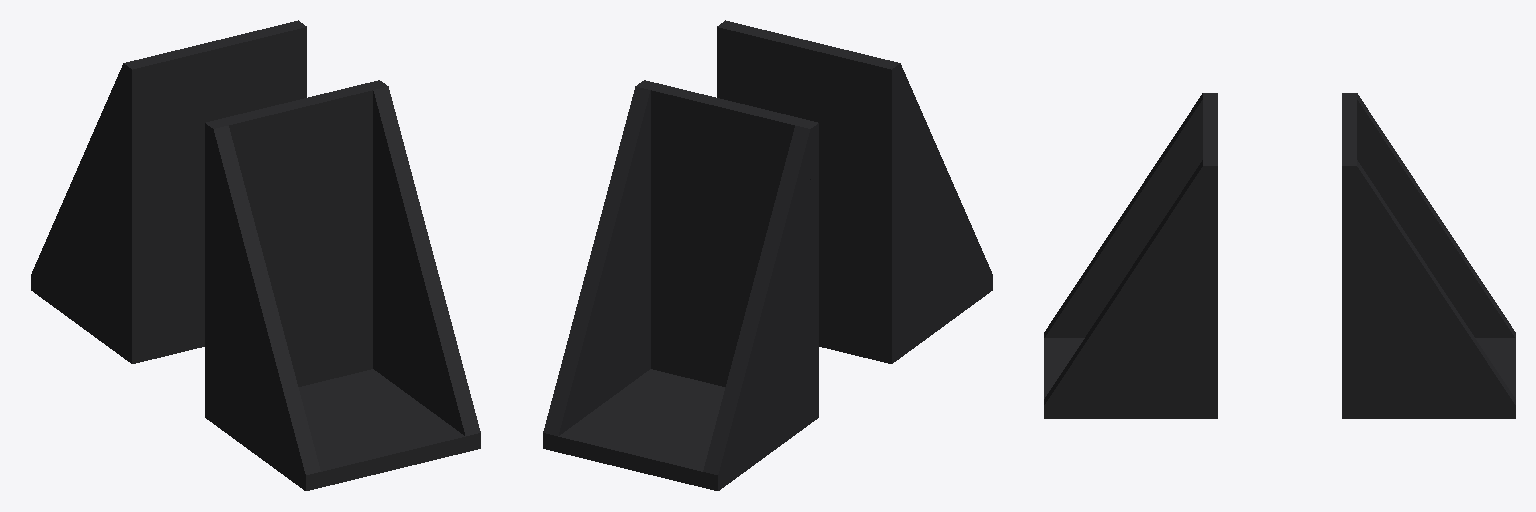
URDF robot description (turtlebot_arm):
<?xml version="1.0" ?>
<!-- =================================================================================== -->
<!-- |    This document was autogenerated by xacro from pincher_arm.urdf.xacro         | -->
<!-- |    EDITING THIS FILE BY HAND IS NOT RECOMMENDED                                 | -->
<!-- =================================================================================== -->
<robot name="turtlebot_arm" xmlns:xacro="http://ros.org/wiki/xacro">
  <!-- Included URDF Files -->
  <material name="White">
    <color rgba="0.87 0.90 0.87 1.0"/>
  </material>
  <material name="Black">
    <color rgba="0.08 0.08 0.08 1.0"/>
  </material>
  <material name="Gray">
    <color rgba="0.2 0.2 0.21 1.0"/>
  </material>
  <material name="Green">
    <color rgba="0.22 0.32 0.14 1.0"/>
  </material>
  <!-- As we don't have here a turtlebot, add a base_link link as its location reference -->
  <link name="base_link"/>
  <!-- Turtlebot arm macro: we can configure joints velocity limit and lower/upper limits
         for the first joint (arm_shoulder_pan) to allow accessing to different operational 
         areas, e.g. left handed vs. right handed robot -->
  <link name="arm_base_link"/>
  <joint name="arm_base_joint" type="fixed">
    <origin xyz="0.1 0.03 0.435"/>
    <parent link="base_link"/>
    <child link="arm_base_link"/>
  </joint>
  <link name="gripper_link"/>
  <joint name="gripper_link_joint" type="revolute">
    <origin rpy="0 -1.57 0" xyz="0 0 0.112"/>
    <parent link="arm_wrist_flex_link"/>
    <child link="gripper_link"/>
    <limit effort="30" lower="-3.14" upper="3.14" velocity="1"/>
    <axis xyz="1 0 0"/>
  </joint>
  <joint name="arm_shoulder_pan_servo_joint" type="fixed">
    <origin rpy="1.570795 0 1.570795" xyz="0 0 0"/>
    <parent link="arm_base_link"/>
    <child link="arm_shoulder_pan_servo_link"/>
  </joint>
  <link name="arm_shoulder_pan_servo_link">
    <inertial>
      <mass value="0.055"/>
      <origin xyz="0 0 0"/>
      <inertia ixx="0.000017012" ixy="0.0" ixz="0.0" iyy="0.000013258" iyz="0.0" izz="0.000009483"/>
    </inertial>
    <visual>
      <origin rpy="0 0 0" xyz=" 0 0 0 "/>
      <geometry>
        <mesh filename="package://turtlebot_arm_description/meshes/ax12_box.stl" scale="0.001 0.001 0.001"/>
      </geometry>
      <material name="Gray"/>
    </visual>
    <collision>
      <origin rpy="0 0 0" xyz="0.0 0.0 -0.01241"/>
      <geometry>
        <box size="0.025 0.038 0.04762"/>
      </geometry>
    </collision>
  </link>
  <gazebo reference="arm_shoulder_pan_servo_link">
    <material>Gazebo/Black</material>
    <selfCollide>true</selfCollide>
    <gravity>true</gravity>
  </gazebo>
  <joint name="arm_shoulder_pan_joint" type="revolute">
    <origin rpy="-1.570795 1.570795 3.14159" xyz="0 0.019 0"/>
    <axis xyz="0 0 -1"/>
    <limit effort="30" lower="-2.62" upper="2.62" velocity="1.571"/>
    <dynamics friction="0.13"/>
    <parent link="arm_shoulder_pan_servo_link"/>
    <child link="arm_shoulder_pan_link"/>
  </joint>
  <link name="arm_shoulder_pan_link">
    <inertial>
      <mass value="0.008"/>
      <origin xyz="0 0 0"/>
      <inertia ixx="0.000001" ixy="0.0" ixz="0.0" iyy="0.000001" iyz="0.0" izz="0.000001"/>
    </inertial>
    <visual>
      <origin rpy="0 0 0" xyz=" 0 0 0 "/>
      <geometry>
        <mesh filename="package://turtlebot_arm_description/meshes/F3.stl" scale="0.001 0.001 0.001"/>
      </geometry>
      <material name="Gray"/>
    </visual>
    <collision>
      <origin rpy="0 0 0" xyz="0.0 0.0 -0.0045"/>
      <geometry>
        <box size="0.025 0.038 0.009"/>
      </geometry>
    </collision>
  </link>
  <gazebo reference="arm_shoulder_pan_link">
    <material>Gazebo/Gray</material>
    <selfCollide>true</selfCollide>
    <gravity>true</gravity>
  </gazebo>
  <joint name="arm_shoulder_lift_servo_joint" type="fixed">
    <origin rpy="0 3.14159 0" xyz="0 0 -0.0415"/>
    <parent link="arm_shoulder_pan_link"/>
    <child link="arm_shoulder_lift_servo_link"/>
  </joint>
  <link name="arm_shoulder_lift_servo_link">
    <inertial>
      <mass value="0.055"/>
      <origin xyz="0 0 0"/>
      <inertia ixx="0.000017012" ixy="0.0" ixz="0.0" iyy="0.000013258" iyz="0.0" izz="0.000009483"/>
    </inertial>
    <visual>
      <origin rpy="0 0 0" xyz=" 0 0 0 "/>
      <geometry>
        <mesh filename="package://turtlebot_arm_description/meshes/ax12_box.stl" scale="0.001 0.001 0.001"/>
      </geometry>
      <material name="Gray"/>
    </visual>
    <collision>
      <origin rpy="0 0 0" xyz="0.0 0.0 -0.01241"/>
      <geometry>
        <box size="0.025 0.038 0.04762"/>
      </geometry>
    </collision>
  </link>
  <gazebo reference="arm_shoulder_lift_servo_link">
    <material>Gazebo/Black</material>
    <selfCollide>true</selfCollide>
    <gravity>true</gravity>
  </gazebo>
  <joint name="arm_shoulder_lift_joint" type="revolute">
    <origin rpy="0 0 0" xyz="0 0 0"/>
    <axis xyz="0 1 0"/>
    <limit effort="30" lower="-2.21" upper="2.16" velocity="1.571"/>
    <dynamics friction="0.13"/>
    <parent link="arm_shoulder_lift_servo_link"/>
    <child link="arm_shoulder_lift_link"/>
  </joint>
  <link name="arm_shoulder_lift_link">
    <inertial>
      <mass value="0.016"/>
      <origin xyz="0 0 0"/>
      <inertia ixx="0.000001" ixy="0.0" ixz="0.0" iyy="0.000001" iyz="0.0" izz="0.000001"/>
    </inertial>
    <visual>
      <origin rpy="0 0 0" xyz=" 0 0 0 "/>
      <geometry>
        <mesh filename="package://turtlebot_arm_description/meshes/F4.stl" scale="0.001 0.001 0.001"/>
      </geometry>
      <material name="Gray"/>
    </visual>
    <collision>
      <origin rpy="0 0 0" xyz="0.0 0.0 0.0215"/>
      <geometry>
        <box size="0.028 0.0485 0.065"/>
      </geometry>
    </collision>
  </link>
  <gazebo reference="arm_shoulder_lift_link">
    <material>Gazebo/Gray</material>
    <selfCollide>true</selfCollide>
    <gravity>true</gravity>
  </gazebo>
  <joint name="arm_shoulder_F10_0_joint" type="fixed">
    <origin rpy="0 0 0" xyz="0 0 0.0545"/>
    <parent link="arm_shoulder_lift_link"/>
    <child link="arm_shoulder_F10_0_link"/>
  </joint>
  <link name="arm_shoulder_F10_0_link">
    <inertial>
      <mass value="0.004"/>
      <origin xyz="0 0 0"/>
      <inertia ixx="0.000001" ixy="0.0" ixz="0.0" iyy="0.000001" iyz="0.0" izz="0.000001"/>
    </inertial>
    <visual>
      <origin rpy="0 0 0" xyz=" 0 0 0 "/>
      <geometry>
        <mesh filename="package://turtlebot_arm_description/meshes/F10.stl" scale="0.001 0.001 0.001"/>
      </geometry>
      <material name="Gray"/>
    </visual>
    <collision>
      <origin rpy="0 0 0" xyz="0.0 0.0 0.0"/>
      <geometry>
        <box size="0.025 0.038 0.004"/>
      </geometry>
    </collision>
  </link>
  <gazebo reference="arm_shoulder_F10_0_link">
    <material>Gazebo/Gray</material>
    <selfCollide>true</selfCollide>
    <gravity>true</gravity>
  </gazebo>
  <joint name="arm_shoulder_F10_1_joint" type="fixed">
    <origin rpy="0 0 0" xyz="0 0 0.004"/>
    <parent link="arm_shoulder_F10_0_link"/>
    <child link="arm_shoulder_F10_1_link"/>
  </joint>
  <link name="arm_shoulder_F10_1_link">
    <inertial>
      <mass value="0.004"/>
      <origin xyz="0 0 0"/>
      <inertia ixx="0.000001" ixy="0.0" ixz="0.0" iyy="0.000001" iyz="0.0" izz="0.000001"/>
    </inertial>
    <visual>
      <origin rpy="0 0 0" xyz=" 0 0 0 "/>
      <geometry>
        <mesh filename="package://turtlebot_arm_description/meshes/F10.stl" scale="0.001 0.001 0.001"/>
      </geometry>
      <material name="Gray"/>
    </visual>
    <collision>
      <origin rpy="0 0 0" xyz="0.0 0.0 0.0"/>
      <geometry>
        <box size="0.025 0.038 0.004"/>
      </geometry>
    </collision>
  </link>
  <gazebo reference="arm_shoulder_F10_1_link">
    <material>Gazebo/Gray</material>
    <selfCollide>true</selfCollide>
    <gravity>true</gravity>
  </gazebo>
  <joint name="arm_shoulder_F10_2_joint" type="fixed">
    <origin rpy="0 0 0" xyz="0 0 0.004"/>
    <parent link="arm_shoulder_F10_1_link"/>
    <child link="arm_shoulder_F10_2_link"/>
  </joint>
  <link name="arm_shoulder_F10_2_link">
    <inertial>
      <mass value="0.004"/>
      <origin xyz="0 0 0"/>
      <inertia ixx="0.000001" ixy="0.0" ixz="0.0" iyy="0.000001" iyz="0.0" izz="0.000001"/>
    </inertial>
    <visual>
      <origin rpy="0 0 0" xyz=" 0 0 0 "/>
      <geometry>
        <mesh filename="package://turtlebot_arm_description/meshes/F10.stl" scale="0.001 0.001 0.001"/>
      </geometry>
      <material name="Gray"/>
    </visual>
    <collision>
      <origin rpy="0 0 0" xyz="0.0 0.0 0.0"/>
      <geometry>
        <box size="0.025 0.038 0.004"/>
      </geometry>
    </collision>
  </link>
  <gazebo reference="arm_shoulder_F10_2_link">
    <material>Gazebo/Gray</material>
    <selfCollide>true</selfCollide>
    <gravity>true</gravity>
  </gazebo>
  <joint name="arm_shoulder_F3_0_joint" type="fixed">
    <origin rpy="0 3.14159 0" xyz="0 0 0.002"/>
    <parent link="arm_shoulder_F10_2_link"/>
    <child link="arm_shoulder_F3_0_link"/>
  </joint>
  <link name="arm_shoulder_F3_0_link">
    <inertial>
      <mass value="0.005"/>
      <origin xyz="0 0 0"/>
      <inertia ixx="0.000001" ixy="0.0" ixz="0.0" iyy="0.000001" iyz="0.0" izz="0.000001"/>
    </inertial>
    <visual>
      <origin rpy="0 0 0" xyz=" 0 0 0 "/>
      <geometry>
        <mesh filename="package://turtlebot_arm_description/meshes/F3.stl" scale="0.001 0.001 0.001"/>
      </geometry>
      <material name="Gray"/>
    </visual>
    <collision>
      <origin rpy="0 0 0" xyz="0.0 0.0 -0.0045"/>
      <geometry>
        <box size="0.025 0.038 0.009"/>
      </geometry>
    </collision>
  </link>
  <gazebo reference="arm_shoulder_F3_0_link">
    <material>Gazebo/Gray</material>
    <selfCollide>true</selfCollide>
    <gravity>true</gravity>
  </gazebo>
  <joint name="arm_elbow_flex_servo_joint" type="fixed">
    <origin rpy="0 3.14159 0" xyz="0 0 -0.0415"/>
    <parent link="arm_shoulder_F3_0_link"/>
    <child link="arm_elbow_flex_servo_link"/>
  </joint>
  <link name="arm_elbow_flex_servo_link">
    <inertial>
      <mass value="0.055"/>
      <origin xyz="0 0 0"/>
      <inertia ixx="0.000017012" ixy="0.0" ixz="0.0" iyy="0.000013258" iyz="0.0" izz="0.000009483"/>
    </inertial>
    <visual>
      <origin rpy="0 0 0" xyz=" 0 0 0 "/>
      <geometry>
        <mesh filename="package://turtlebot_arm_description/meshes/ax12_box.stl" scale="0.001 0.001 0.001"/>
      </geometry>
      <material name="Gray"/>
    </visual>
    <collision>
      <origin rpy="0 0 0" xyz="0.0 0.0 -0.01241"/>
      <geometry>
        <box size="0.025 0.038 0.04762"/>
      </geometry>
    </collision>
  </link>
  <gazebo reference="arm_elbow_flex_servo_link">
    <material>Gazebo/Black</material>
    <selfCollide>true</selfCollide>
    <gravity>true</gravity>
  </gazebo>
  <joint name="arm_elbow_flex_joint" type="revolute">
    <origin rpy="0 0 0" xyz="0 0 0"/>
    <axis xyz="0 1 0"/>
    <limit effort="30" lower="-2.42" upper="2.38" velocity="1.571"/>
    <dynamics friction="0.13"/>
    <parent link="arm_elbow_flex_servo_link"/>
    <child link="arm_elbow_flex_link"/>
  </joint>
  <link name="arm_elbow_flex_link">
    <inertial>
      <mass value="0.016"/>
      <origin xyz="0 0 0"/>
      <inertia ixx="0.000001" ixy="0.0" ixz="0.0" iyy="0.000001" iyz="0.0" izz="0.000001"/>
    </inertial>
    <visual>
      <origin rpy="0 0 0" xyz=" 0 0 0 "/>
      <geometry>
        <mesh filename="package://turtlebot_arm_description/meshes/F4.stl" scale="0.001 0.001 0.001"/>
      </geometry>
      <material name="Gray"/>
    </visual>
    <collision>
      <origin rpy="0 0 0" xyz="0.0 0.0 0.0215"/>
      <geometry>
        <box size="0.028 0.0485 0.065"/>
      </geometry>
    </collision>
  </link>
  <gazebo reference="arm_elbow_flex_link">
    <material>Gazebo/Gray</material>
    <selfCollide>true</selfCollide>
    <gravity>true</gravity>
  </gazebo>
  <joint name="arm_elbow_F10_0_joint" type="fixed">
    <origin rpy="0 0 0" xyz="0 0 0.0545"/>
    <parent link="arm_elbow_flex_link"/>
    <child link="arm_elbow_F10_0_link"/>
  </joint>
  <link name="arm_elbow_F10_0_link">
    <inertial>
      <mass value="0.004"/>
      <origin xyz="0 0 0"/>
      <inertia ixx="0.000001" ixy="0.0" ixz="0.0" iyy="0.000001" iyz="0.0" izz="0.000001"/>
    </inertial>
    <visual>
      <origin rpy="0 0 0" xyz=" 0 0 0 "/>
      <geometry>
        <mesh filename="package://turtlebot_arm_description/meshes/F10.stl" scale="0.001 0.001 0.001"/>
      </geometry>
      <material name="Gray"/>
    </visual>
    <collision>
      <origin rpy="0 0 0" xyz="0.0 0.0 0.0"/>
      <geometry>
        <box size="0.025 0.038 0.004"/>
      </geometry>
    </collision>
  </link>
  <gazebo reference="arm_elbow_F10_0_link">
    <material>Gazebo/Gray</material>
    <selfCollide>true</selfCollide>
    <gravity>true</gravity>
  </gazebo>
  <joint name="arm_elbow_F10_1_joint" type="fixed">
    <origin rpy="0 0 0" xyz="0 0 0.004"/>
    <parent link="arm_elbow_F10_0_link"/>
    <child link="arm_elbow_F10_1_link"/>
  </joint>
  <link name="arm_elbow_F10_1_link">
    <inertial>
      <mass value="0.004"/>
      <origin xyz="0 0 0"/>
      <inertia ixx="0.000001" ixy="0.0" ixz="0.0" iyy="0.000001" iyz="0.0" izz="0.000001"/>
    </inertial>
    <visual>
      <origin rpy="0 0 0" xyz=" 0 0 0 "/>
      <geometry>
        <mesh filename="package://turtlebot_arm_description/meshes/F10.stl" scale="0.001 0.001 0.001"/>
      </geometry>
      <material name="Gray"/>
    </visual>
    <collision>
      <origin rpy="0 0 0" xyz="0.0 0.0 0.0"/>
      <geometry>
        <box size="0.025 0.038 0.004"/>
      </geometry>
    </collision>
  </link>
  <gazebo reference="arm_elbow_F10_1_link">
    <material>Gazebo/Gray</material>
    <selfCollide>true</selfCollide>
    <gravity>true</gravity>
  </gazebo>
  <joint name="arm_elbow_F10_2_joint" type="fixed">
    <origin rpy="0 0 0" xyz="0 0 0.004"/>
    <parent link="arm_elbow_F10_1_link"/>
    <child link="arm_elbow_F10_2_link"/>
  </joint>
  <link name="arm_elbow_F10_2_link">
    <inertial>
      <mass value="0.004"/>
      <origin xyz="0 0 0"/>
      <inertia ixx="0.000001" ixy="0.0" ixz="0.0" iyy="0.000001" iyz="0.0" izz="0.000001"/>
    </inertial>
    <visual>
      <origin rpy="0 0 0" xyz=" 0 0 0 "/>
      <geometry>
        <mesh filename="package://turtlebot_arm_description/meshes/F10.stl" scale="0.001 0.001 0.001"/>
      </geometry>
      <material name="Gray"/>
    </visual>
    <collision>
      <origin rpy="0 0 0" xyz="0.0 0.0 0.0"/>
      <geometry>
        <box size="0.025 0.038 0.004"/>
      </geometry>
    </collision>
  </link>
  <gazebo reference="arm_elbow_F10_2_link">
    <material>Gazebo/Gray</material>
    <selfCollide>true</selfCollide>
    <gravity>true</gravity>
  </gazebo>
  <joint name="arm_elbow_F3_0_joint" type="fixed">
    <origin rpy="0 3.14159 0" xyz="0 0 0.002"/>
    <parent link="arm_elbow_F10_2_link"/>
    <child link="arm_elbow_F3_0_link"/>
  </joint>
  <link name="arm_elbow_F3_0_link">
    <inertial>
      <mass value="0.005"/>
      <origin xyz="0 0 0"/>
      <inertia ixx="0.000001" ixy="0.0" ixz="0.0" iyy="0.000001" iyz="0.0" izz="0.000001"/>
    </inertial>
    <visual>
      <origin rpy="0 0 0" xyz=" 0 0 0 "/>
      <geometry>
        <mesh filename="package://turtlebot_arm_description/meshes/F3.stl" scale="0.001 0.001 0.001"/>
      </geometry>
      <material name="Gray"/>
    </visual>
    <collision>
      <origin rpy="0 0 0" xyz="0.0 0.0 -0.0045"/>
      <geometry>
        <box size="0.025 0.038 0.009"/>
      </geometry>
    </collision>
  </link>
  <gazebo reference="arm_elbow_F3_0_link">
    <material>Gazebo/Gray</material>
    <selfCollide>true</selfCollide>
    <gravity>true</gravity>
  </gazebo>
  <joint name="arm_wrist_flex_servo_joint" type="fixed">
    <origin rpy="0 3.14159 0" xyz="0 0 -0.0415"/>
    <parent link="arm_elbow_F3_0_link"/>
    <child link="arm_wrist_flex_servo_link"/>
  </joint>
  <link name="arm_wrist_flex_servo_link">
    <inertial>
      <mass value="0.055"/>
      <origin xyz="0 0 0"/>
      <inertia ixx="0.000017012" ixy="0.0" ixz="0.0" iyy="0.000013258" iyz="0.0" izz="0.000009483"/>
    </inertial>
    <visual>
      <origin rpy="0 0 0" xyz=" 0 0 0 "/>
      <geometry>
        <mesh filename="package://turtlebot_arm_description/meshes/ax12_box.stl" scale="0.001 0.001 0.001"/>
      </geometry>
      <material name="Gray"/>
    </visual>
    <collision>
      <origin rpy="0 0 0" xyz="0.0 0.0 -0.01241"/>
      <geometry>
        <box size="0.025 0.038 0.04762"/>
      </geometry>
    </collision>
  </link>
  <gazebo reference="arm_wrist_flex_servo_link">
    <material>Gazebo/Black</material>
    <selfCollide>true</selfCollide>
    <gravity>true</gravity>
  </gazebo>
  <joint name="arm_wrist_flex_joint" type="revolute">
    <origin rpy="0 0 0" xyz="0 0 0"/>
    <axis xyz="0 1 0"/>
    <limit effort="30" lower="-1.72" upper="1.68" velocity="1.571"/>
    <dynamics friction="0.13"/>
    <parent link="arm_wrist_flex_servo_link"/>
    <child link="arm_wrist_flex_link"/>
  </joint>
  <link name="arm_wrist_flex_link">
    <inertial>
      <mass value="0.010"/>
      <origin xyz="0 0 0"/>
      <inertia ixx="0.000001" ixy="0.0" ixz="0.0" iyy="0.000001" iyz="0.0" izz="0.000001"/>
    </inertial>
    <visual>
      <origin rpy="0 0 0" xyz=" 0 0 0 "/>
      <geometry>
        <mesh filename="package://turtlebot_arm_description/meshes/F2.stl" scale="0.001 0.001 0.001"/>
      </geometry>
      <material name="Gray"/>
    </visual>
    <collision>
      <origin rpy="0 0 0" xyz="0.0 0.0 0.00775"/>
      <geometry>
        <box size="0.025 0.0485 0.0375"/>
      </geometry>
    </collision>
  </link>
  <gazebo reference="arm_wrist_flex_link">
    <material>Gazebo/Gray</material>
    <selfCollide>true</selfCollide>
    <gravity>true</gravity>
  </gazebo>
  <joint name="arm_wrist_F3_0_joint" type="fixed">
    <origin rpy="0 3.14159 -1.570795" xyz="0 0.016 0.0265"/>
    <parent link="arm_wrist_flex_link"/>
    <child link="arm_wrist_F3_0_link"/>
  </joint>
  <link name="arm_wrist_F3_0_link">
    <inertial>
      <mass value="0.005"/>
      <origin xyz="0 0 0"/>
      <inertia ixx="0.000001" ixy="0.0" ixz="0.0" iyy="0.000001" iyz="0.0" izz="0.000001"/>
    </inertial>
    <visual>
      <origin rpy="0 0 0" xyz=" 0 0 0 "/>
      <geometry>
        <mesh filename="package://turtlebot_arm_description/meshes/F3.stl" scale="0.001 0.001 0.001"/>
      </geometry>
      <material name="Gray"/>
    </visual>
    <collision>
      <origin rpy="0 0 0" xyz="0.0 0.0 -0.0045"/>
      <geometry>
        <box size="0.025 0.038 0.009"/>
      </geometry>
    </collision>
  </link>
  <gazebo reference="arm_wrist_F3_0_link">
    <material>Gazebo/Gray</material>
    <selfCollide>true</selfCollide>
    <gravity>true</gravity>
  </gazebo>
  <joint name="gripper_finger_base_joint" type="fixed">
    <origin rpy="3.14159 -1.570795 3.14159" xyz="-0.025 0 -.05 "/>
    <parent link="arm_wrist_F3_0_link"/>
    <child link="gripper_finger_base_link"/>
  </joint>
  <link name="gripper_finger_base_link">
    <inertial>
      <mass value="0.00001"/>
      <origin xyz="0 0 0"/>
      <inertia ixx="1.0" ixy="0.0" ixz="0.0" iyy="1.0" iyz="0.0" izz="1.0"/>
    </inertial>
    <visual>
      <origin rpy="3.14159 -1.570795 1.570795" xyz="0.016 0 -.015 "/>
      <geometry>
        <mesh filename="package://turtlebot_arm_description/meshes/finger_base_px.stl" scale=".01 .01 .01"/>
      </geometry>
      <material name="Gray"/>
    </visual>
    <collision>
      <origin rpy="0 0 0" xyz="0.015 0 -0.0135"/>
      <geometry>
        <box size="0.002 0.040 0.075"/>
      </geometry>
    </collision>
  </link>
  <gazebo reference="gripper_finger_base_link">
    <material>Gazebo/Gray</material>
    <selfCollide>true</selfCollide>
    <gravity>true</gravity>
  </gazebo>
  <joint name="gripper_servo_joint" type="fixed">
    <origin rpy="3.14159 1.570795 0" xyz="-0.02275 0 -0.019"/>
    <parent link="arm_wrist_F3_0_link"/>
    <child link="gripper_servo_link"/>
  </joint>
  <link name="gripper_servo_link">
    <inertial>
      <mass value="0.055"/>
      <origin xyz="0 0 0"/>
      <inertia ixx="0.000017012" ixy="0.0" ixz="0.0" iyy="0.000013258" iyz="0.0" izz="0.000009483"/>
    </inertial>
    <visual>
      <origin rpy="0 0 0" xyz=" 0 0 0 "/>
      <geometry>
        <mesh filename="package://turtlebot_arm_description/meshes/ax12_box.stl" scale="0.001 0.001 0.001"/>
      </geometry>
      <material name="Gray"/>
    </visual>
    <collision>
      <origin rpy="0 0 0" xyz="0.0 0.0 -0.01241"/>
      <geometry>
        <box size="0.025 0.038 0.04762"/>
      </geometry>
    </collision>
  </link>
  <gazebo reference="gripper_servo_link">
    <material>Gazebo/Black</material>
    <selfCollide>true</selfCollide>
    <gravity>true</gravity>
  </gazebo>
  <joint name="gripper_joint" type="prismatic">
    <origin rpy="0 0 0" xyz="0 0 0"/>
    <axis xyz="0 0 1"/>
    <limit effort="30" lower="0.002" upper="0.031" velocity="0.5"/>
    <parent link="gripper_servo_link"/>
    <child link="gripper_active_link"/>
  </joint>
  <link name="gripper_active_link">
    <inertial>
      <mass value="0.00001"/>
      <origin xyz="0 0 0"/>
      <inertia ixx="1.0" ixy="0.0" ixz="0.0" iyy="1.0" iyz="0.0" izz="1.0"/>
    </inertial>
    <visual>
      <origin rpy="3.14159 -1.570795 1.570795" xyz="0.016 0 -.015 "/>
      <geometry>
        <mesh filename="package://turtlebot_arm_description/meshes/finger_px.stl" scale=".01 .01 .01"/>
      </geometry>
      <material name="Gray"/>
    </visual>
    <collision>
      <origin rpy="0 0 0" xyz="0.035 0 -0.0135"/>
      <geometry>
        <box size="0.036 0.028 0.004"/>
      </geometry>
    </collision>
  </link>
  <joint name="gripper2_joint" type="fixed">
    <parent link="gripper_servo_link"/>
    <child link="gripper_active2_link"/>
  </joint>
  <link name="gripper_active2_link">
    <inertial>
      <mass value="0.00001"/>
      <origin xyz="0 0 0"/>
      <inertia ixx="1.0" ixy="0.0" ixz="0.0" iyy="1.0" iyz="0.0" izz="1.0"/>
    </inertial>
    <visual>
      <origin rpy="3.14159 1.570795 1.570795" xyz="0.016 0 -.015 "/>
      <geometry>
        <mesh filename="package://turtlebot_arm_description/meshes/finger_px.stl" scale=".01 .01 .01"/>
      </geometry>
      <material name="Gray"/>
    </visual>
    <collision>
      <origin rpy="0 0 0" xyz="0.035 0 -0.018"/>
      <geometry>
        <box size="0.036 0.028 0.004"/>
      </geometry>
    </collision>
  </link>
</robot>

--- Render facts (derived) ---
3 views of the same robot in one strip: view 1: azimuth 30°, elevation 25°; view 2: azimuth 150°, elevation 25°; view 3: azimuth 270°, elevation 25° (orthographic).
Model turtlebot_arm with 24 links and 23 joints (5 revolute, 1 prismatic, 17 fixed), rooted at base_link, posed joints at zero except 1 at the middle of their limits (gripper_joint = 0.0165).
Links seen in each view (by area): view 1: gripper_active_link, gripper_active2_link; view 2: gripper_active2_link, gripper_active_link; view 3: gripper_active_link, gripper_active2_link.
Link boxes in pixels (<box>): gripper_active_link: <box>205,80,480,490</box>; gripper_active2_link: <box>31,20,306,363</box>; gripper_active2_link: <box>543,80,818,490</box>; gripper_active_link: <box>717,20,992,363</box>; gripper_active_link: <box>1044,93,1217,418</box>; gripper_active2_link: <box>1342,93,1515,418</box>.
Size in the robot's own frame: 0.023 by 0.0625 by 0.037 metres.
2 mesh visuals loaded from 7 distinct referenced files (1 binary STL); not drawn: 19 (reference not matched to a file when rendering).